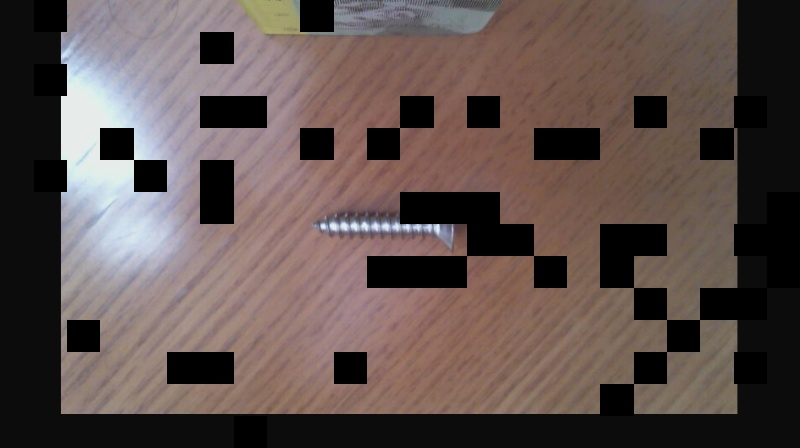S001: (306, 197, 461, 253)
